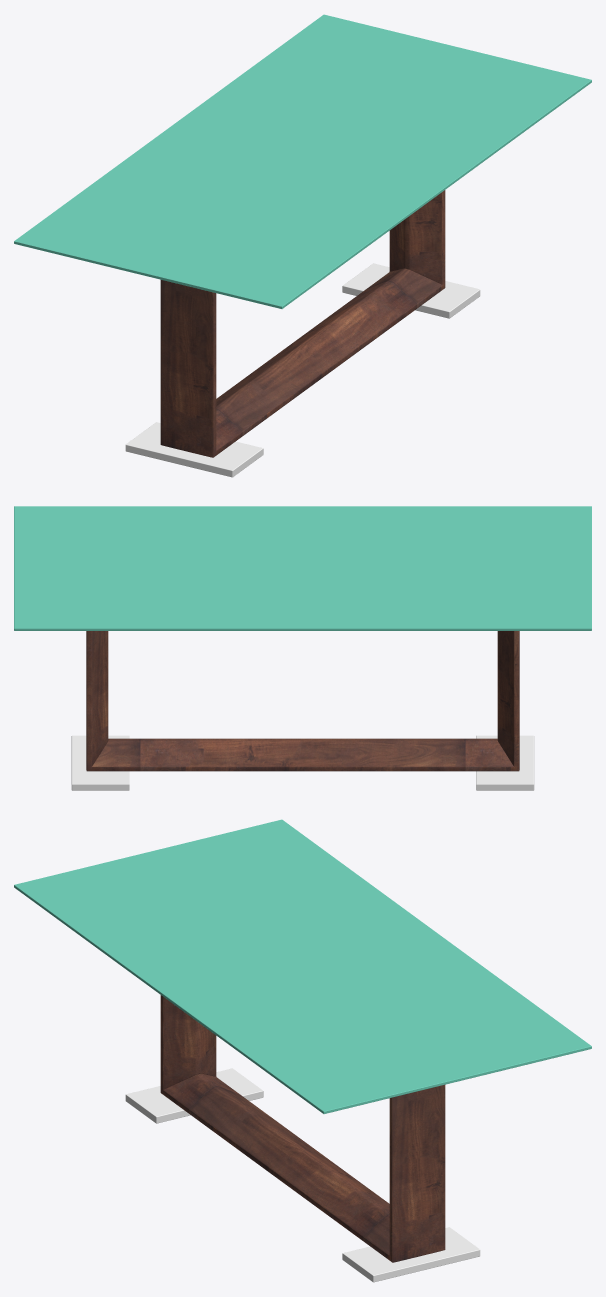
The model's file is table_oasis.gltf.
The picture shows the model from 3 angles, top to bottom: view 1: azimuth 30°, elevation 25°; view 2: azimuth 150°, elevation 25°; view 3: azimuth 270°, elevation 25°; orthographic projection. The views are drawn at different scales.
Parts seen in each view (by area): view 1: Box001, Rectangle002, Rectangle003, Rectangle004; view 2: Box001, Rectangle002, Rectangle003, Rectangle004; view 3: Box001, Rectangle002, Rectangle004, Rectangle003.
Boxes of the visible parts, x1,y1,x2,y2 form: Box001: (14, 14, 591, 308); Rectangle002: (160, 190, 445, 457); Rectangle003: (125, 422, 263, 477); Rectangle004: (342, 263, 480, 318); Box001: (14, 506, 591, 630); Rectangle002: (86, 631, 519, 771); Rectangle003: (476, 735, 534, 790); Rectangle004: (71, 735, 129, 790); Box001: (14, 819, 591, 1113); Rectangle002: (160, 995, 445, 1262); Rectangle004: (342, 1227, 480, 1282); Rectangle003: (125, 1068, 263, 1123).
Bounding box in the file's own units: 2231 × 760 × 1865.
Materials: 5 (1 with a texture image).
